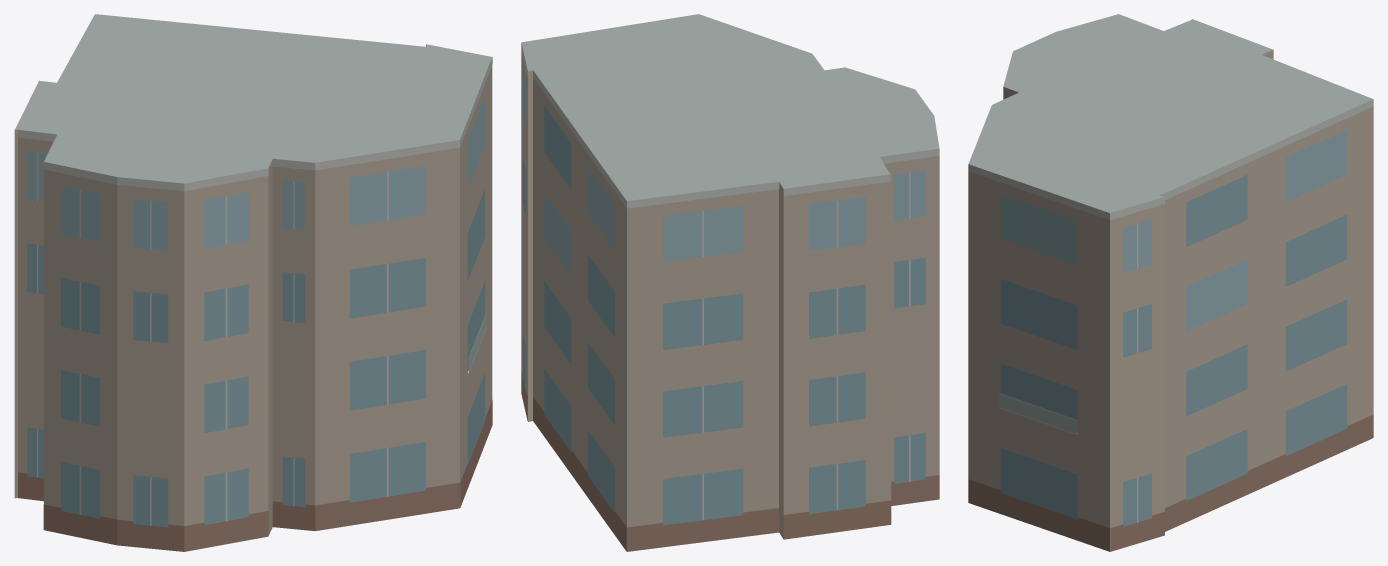
Rendered from survey-upis-32969729.glb.
3 views of the same model, side by side, from view 1: azimuth 30°, elevation 25°; view 2: azimuth 150°, elevation 25°; view 3: azimuth 270°, elevation 25° (orthographic). The views are drawn at different scales.
Parts seen in each view (by area): view 1: survey-upis-32969729.tmp; view 2: survey-upis-32969729.tmp; view 3: survey-upis-32969729.tmp.
Part boxes in pixels (x1,y1,x2,y2): survey-upis-32969729.tmp: [14, 14, 492, 551]; survey-upis-32969729.tmp: [521, 14, 939, 551]; survey-upis-32969729.tmp: [968, 14, 1373, 551].
Size of the model in its own units: 14.64 by 11.6 by 12.59.
